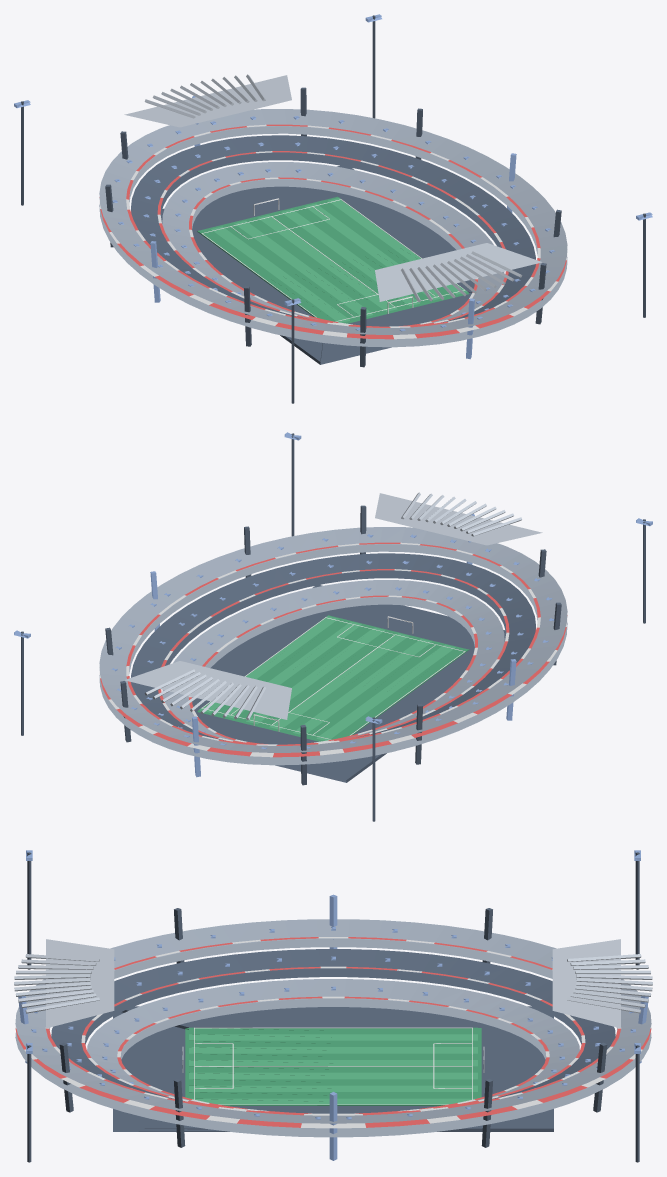
Rendered from morumbis.glb.
3 views of the same model, one above another, from view 1: azimuth 30°, elevation 25°; view 2: azimuth 150°, elevation 25°; view 3: azimuth 270°, elevation 25° (orthographic). The views are drawn at different scales.
Parts seen in each view (by area): view 1: MorumBIS; view 2: MorumBIS; view 3: MorumBIS.
Part boxes in pixels (x1=…): MorumBIS: x1=14, y1=14, x2=652, y2=403; MorumBIS: x1=14, y1=432, x2=652, y2=821; MorumBIS: x1=14, y1=850, x2=652, y2=1162.
Size of the model in its own units: 63.66 by 17.65 by 84.05.
